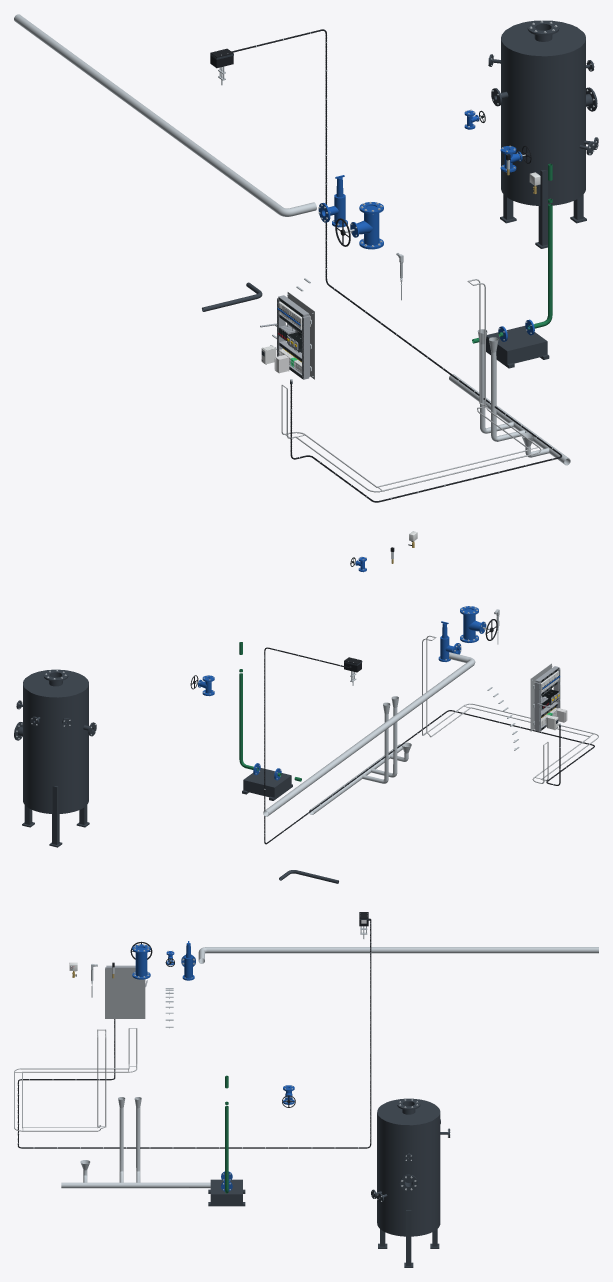
3 views of the same model, one above another, from view 1: azimuth 30°, elevation 25°; view 2: azimuth 150°, elevation 25°; view 3: azimuth 270°, elevation 25° (orthographic). The views are drawn at different scales.
Visible parts, largest first — view 1: separator_bdv60_5 / dark, safety_vent_2 / steel, cabinet_interior / cabinet_interior_0.npz, local_open_drains / steel, cables / zinc, mod_eco_drive_cable / black, pump_branch_1 / dark, steam_manual / blue, pump_branch_1 / green, safety_1 / blue; view 2: separator_bdv60_5 / dark, safety_vent_2 / steel, local_open_drains / steel, cabinet_interior / cabinet_interior_0.npz, mod_eco_drive_cable / black, cables / zinc, pump_branch_1 / dark, steam_manual / blue, pump_branch_1 / green; view 3: separator_bdv60_5 / dark, safety_vent_2 / steel, local_open_drains / steel, cabinet_interior / cabinet_interior_0.npz, mod_eco_drive_cable / black, cables / zinc, pump_branch_1 / dark, steam_manual / blue.
Boxes of the visible parts, <box> form: separator_bdv60_5 / dark: <box>488,20,598,248</box>; safety_vent_2 / steel: <box>14,14,316,216</box>; cabinet_interior / cabinet_interior_0.npz: <box>260,292,314,379</box>; local_open_drains / steel: <box>449,329,570,465</box>; cables / zinc: <box>281,279,541,492</box>; mod_eco_drive_cable / black: <box>231,29,561,502</box>; pump_branch_1 / dark: <box>486,326,549,368</box>; steam_manual / blue: <box>350,202,383,249</box>; pump_branch_1 / green: <box>472,163,552,343</box>; safety_1 / blue: <box>318,175,347,227</box>; separator_bdv60_5 / dark: <box>14,669,96,847</box>; safety_vent_2 / steel: <box>263,652,475,816</box>; local_open_drains / steel: <box>309,696,411,814</box>; cabinet_interior / cabinet_interior_0.npz: <box>530,663,560,731</box>; mod_eco_drive_cable / black: <box>264,647,594,844</box>; cables / zinc: <box>422,635,598,783</box>; pump_branch_1 / dark: <box>242,768,292,800</box>; steam_manual / blue: <box>460,606,486,642</box>; pump_branch_1 / green: <box>239,642,301,781</box>; separator_bdv60_5 / dark: <box>371,1098,449,1267</box>; safety_vent_2 / steel: <box>198,947,598,963</box>; local_open_drains / steel: <box>61,1097,210,1188</box>; cabinet_interior / cabinet_interior_0.npz: <box>105,965,147,1018</box>; mod_eco_drive_cable / black: <box>17,919,371,1148</box>; cables / zinc: <box>14,1028,137,1131</box>; pump_branch_1 / dark: <box>208,1179,245,1206</box>; steam_manual / blue: <box>132,944,150,979</box>.
Bounding box in the file's own units: 5.31 × 3.03 × 7.07.
